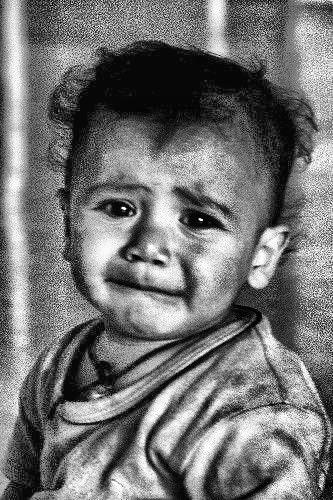sad: (62, 114, 247, 334)
